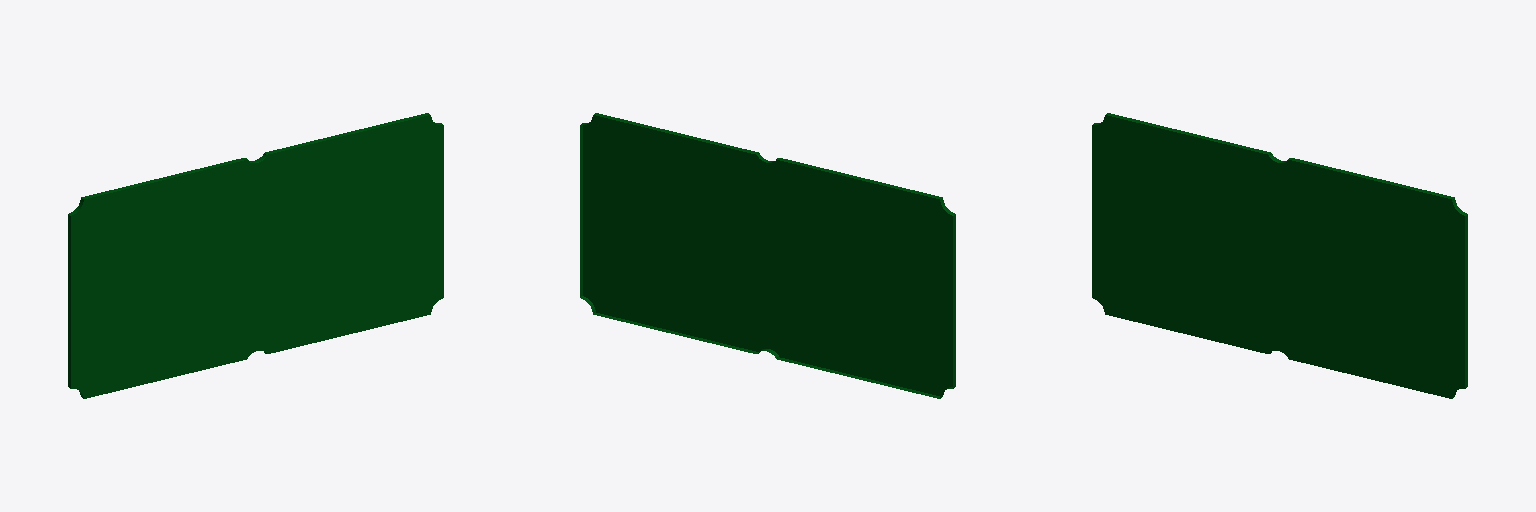
File: table_cloth.obj
3 views of the same model, side by side, from view 1: azimuth 30°, elevation 25°; view 2: azimuth 150°, elevation 25°; view 3: azimuth 330°, elevation 25° (orthographic).
Parts seen in each view (by area): view 1: tableBed_Plane.002; view 2: tableBed_Plane.002; view 3: tableBed_Plane.002.
Boxes of the visible parts, box(x1,y1,x2,y2) form: tableBed_Plane.002: box(68, 113, 443, 398); tableBed_Plane.002: box(580, 113, 955, 398); tableBed_Plane.002: box(1092, 113, 1467, 398).
Size of the model in its own units: 2.39 by 1.22 by 0.0319.